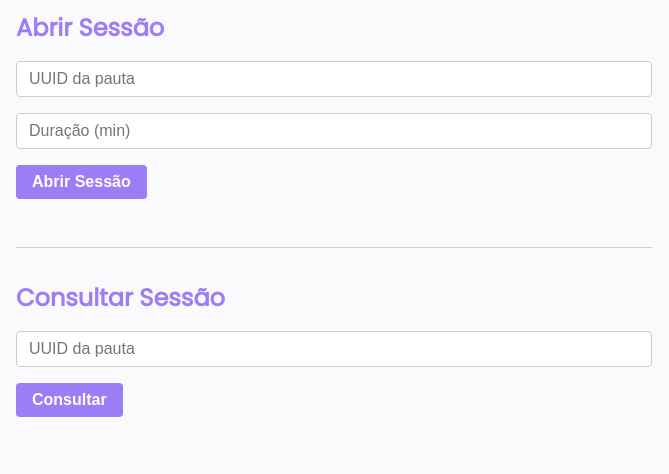
Test: OpenVotingSession › exibe mensagem de erro ao falhar ao consultar sessão
Type "123e4567-e89b-12d3-a456-426614174000" into the field with placeholder "UUID da pauta" below "Consultar Sessão" at (334, 349), box [16,331,652,367]
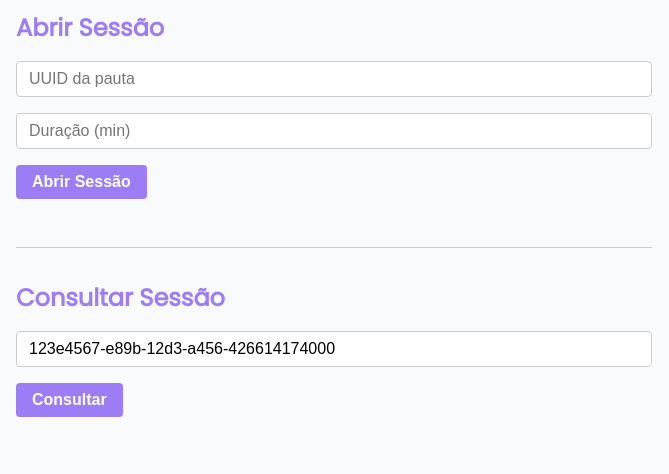
Click the button "Consultar" at (69, 400), box [16,383,123,417]
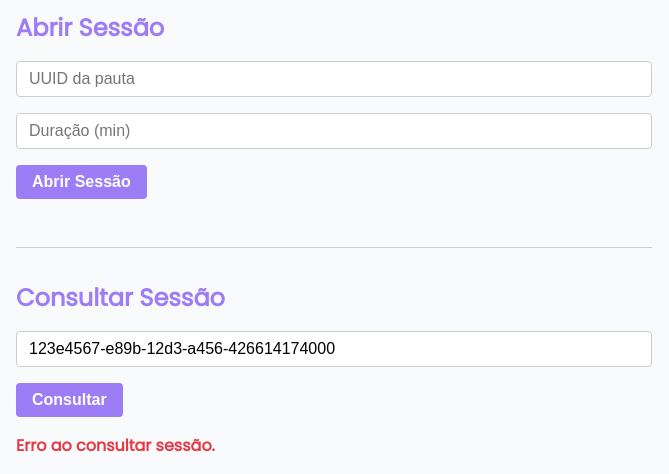
Expected: the text "Erro ao consultar sessão." is shown, [16,434,215,457]
